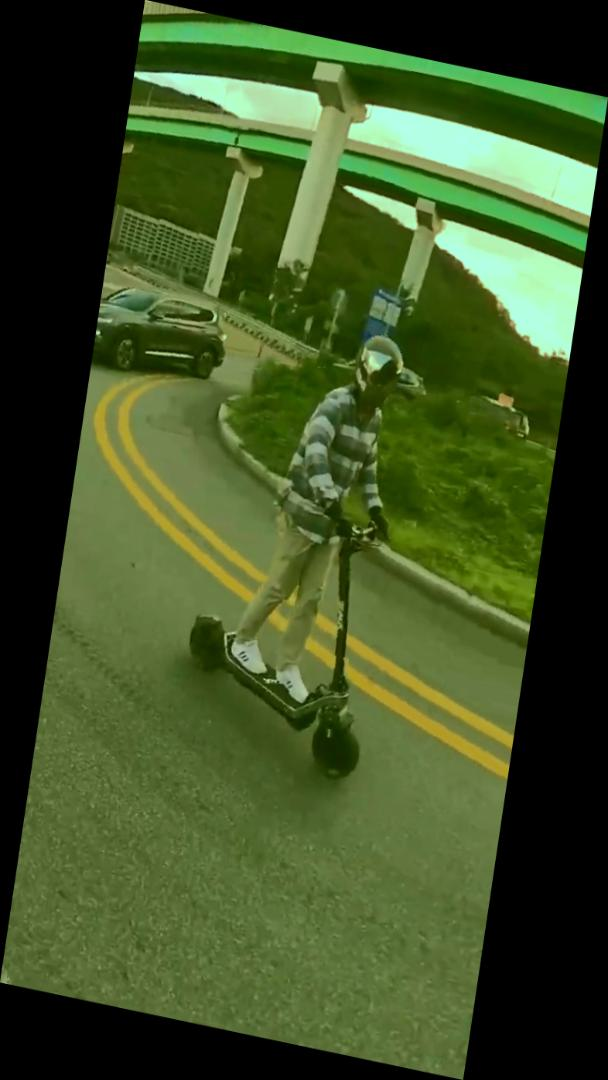helmet: (170, 299, 425, 788)
